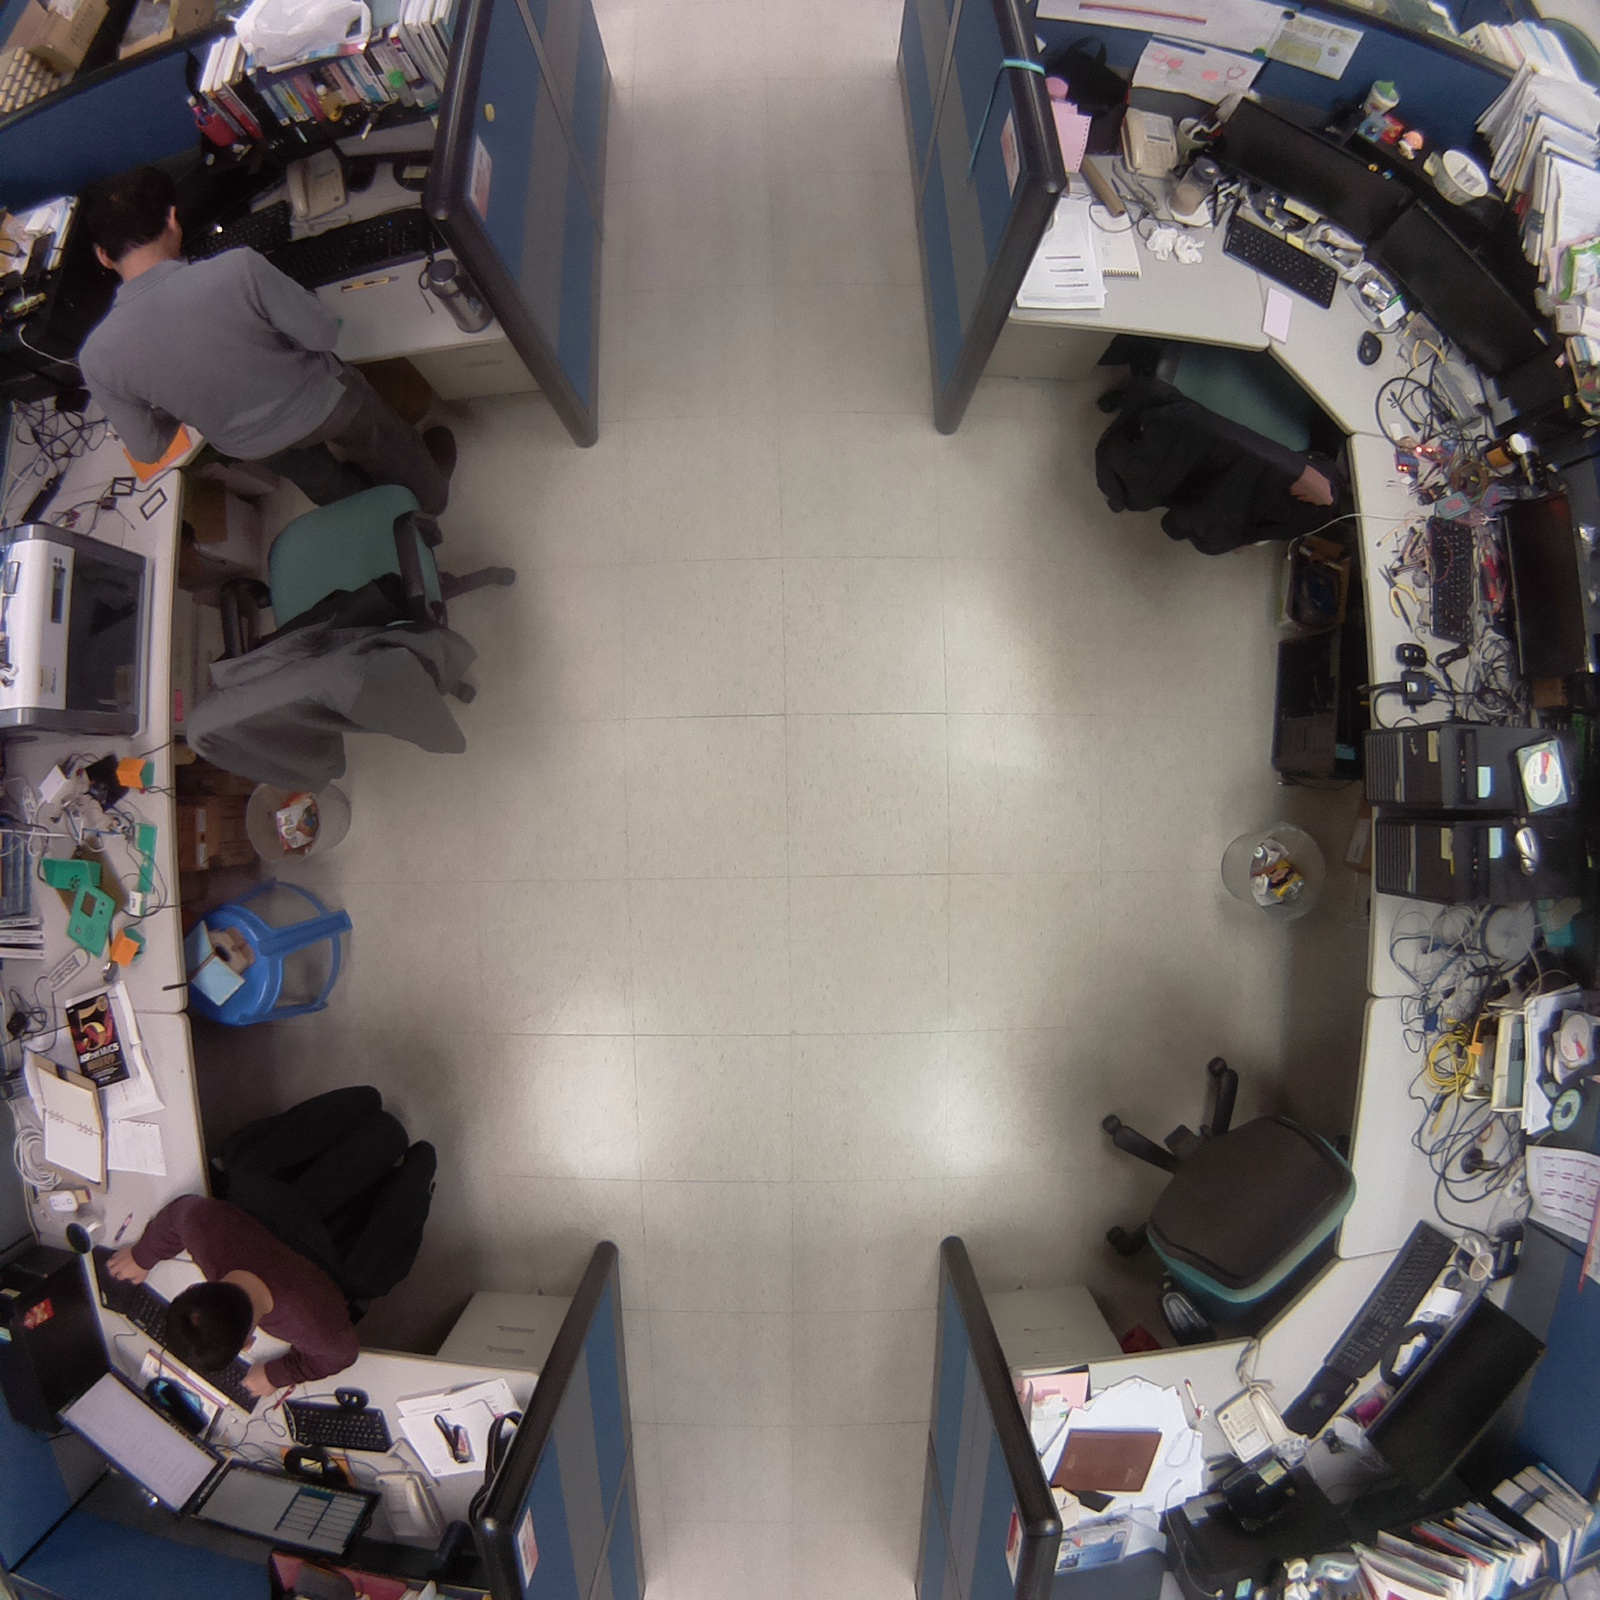chair: (168, 473, 527, 804), (1065, 1052, 1365, 1360), (1076, 314, 1360, 578)
head: (83, 172, 191, 282), (146, 1274, 261, 1374)
sitting: (101, 1047, 468, 1404)
standing: (55, 168, 470, 552)
